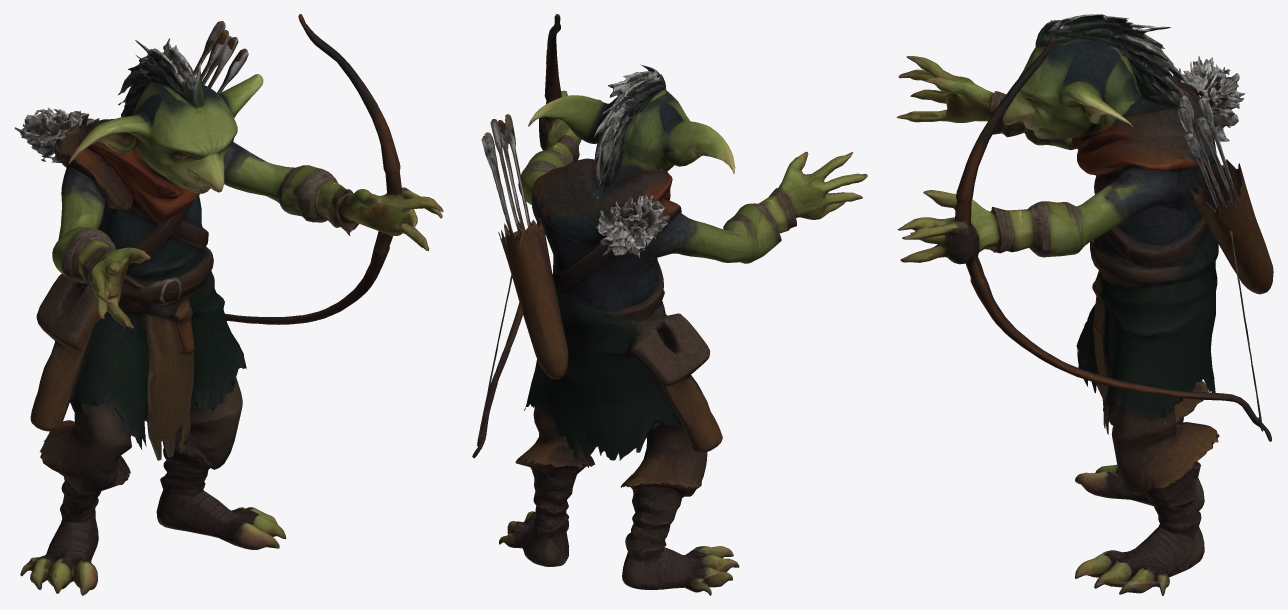
The model's file is goblin_lite.glb.
3 renders of one model, left to right at view 1: azimuth 30°, elevation 25°; view 2: azimuth 150°, elevation 25°; view 3: azimuth 270°, elevation 25°, orthographic. The views are drawn at different scales.
Size of the model in its own units: 1.23 by 1.9 by 1.16.
1 material, 1 textured.
